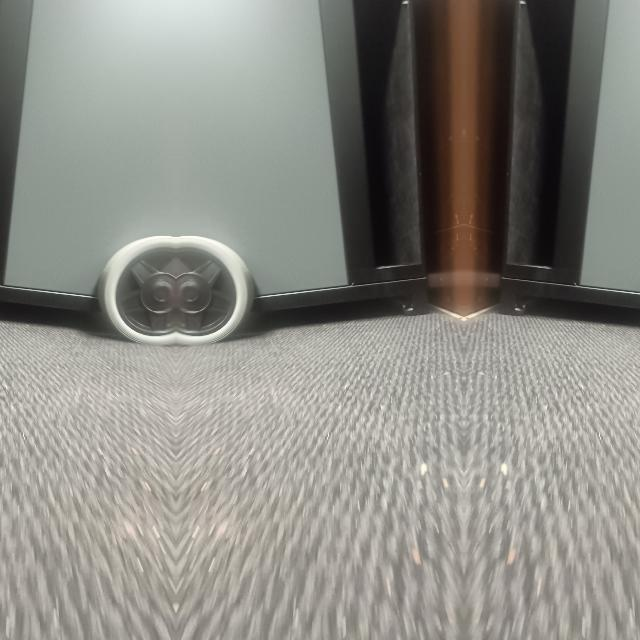obstacle: (175, 123, 452, 341), (0, 123, 174, 341), (475, 123, 640, 341)
